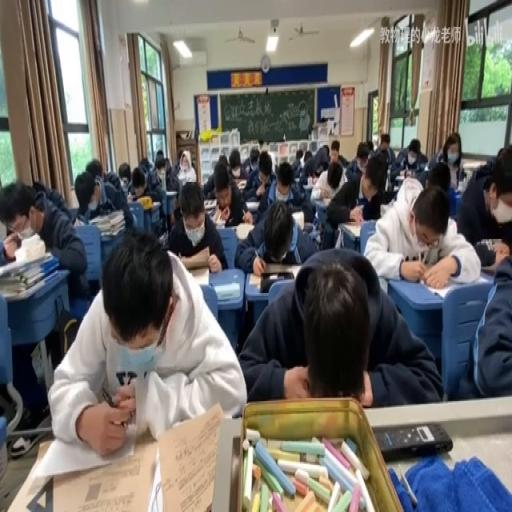calculator: (47, 436, 154, 512), (156, 402, 226, 512), (247, 263, 300, 283), (420, 279, 462, 300), (478, 246, 508, 273), (460, 159, 486, 179), (213, 282, 241, 300), (185, 266, 209, 286), (234, 222, 254, 240), (342, 222, 362, 237), (290, 209, 304, 230), (210, 205, 226, 223), (334, 227, 344, 249), (312, 195, 328, 206), (300, 182, 314, 193), (166, 189, 178, 201), (246, 199, 259, 209), (202, 199, 216, 208), (224, 222, 238, 230), (149, 199, 160, 209), (234, 179, 246, 188), (126, 192, 136, 201), (395, 174, 405, 180)
paper: (50, 228, 244, 456), (239, 249, 437, 408), (363, 178, 481, 286), (2, 178, 88, 300), (453, 240, 511, 402), (234, 193, 316, 273), (166, 179, 226, 270), (322, 151, 383, 239), (76, 166, 134, 236), (202, 150, 240, 200), (391, 136, 427, 184), (239, 148, 266, 203), (150, 149, 176, 188), (424, 160, 452, 194), (372, 132, 394, 166), (442, 134, 460, 165), (362, 194, 380, 220), (130, 169, 146, 195), (276, 168, 292, 192), (92, 175, 106, 202), (118, 161, 131, 189), (85, 158, 101, 179), (139, 156, 153, 180), (172, 154, 186, 176), (328, 168, 342, 189), (330, 138, 340, 164), (384, 165, 391, 192), (258, 165, 268, 182), (497, 145, 507, 161), (218, 154, 228, 169), (302, 150, 312, 164), (258, 141, 268, 155), (366, 138, 374, 154), (242, 162, 251, 176), (294, 149, 302, 161), (249, 158, 256, 169), (374, 138, 380, 149)
person: (374, 422, 451, 461)
